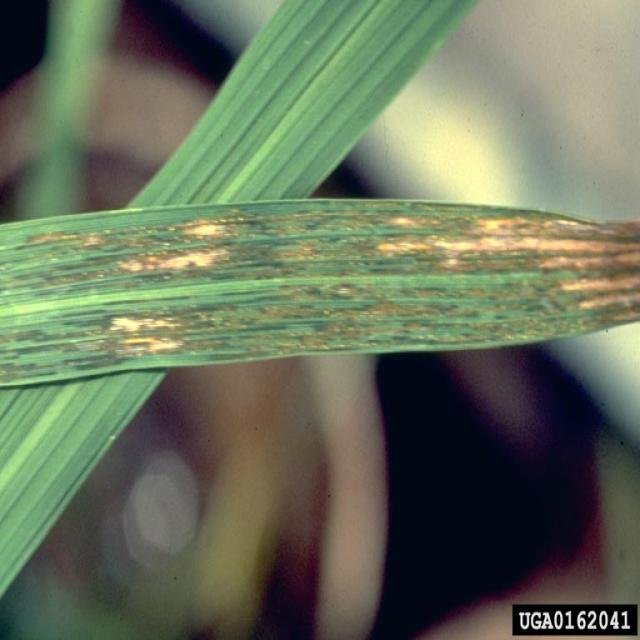Bacterial leaf blight: (367, 193, 640, 317), (15, 205, 271, 294), (40, 297, 235, 367)
